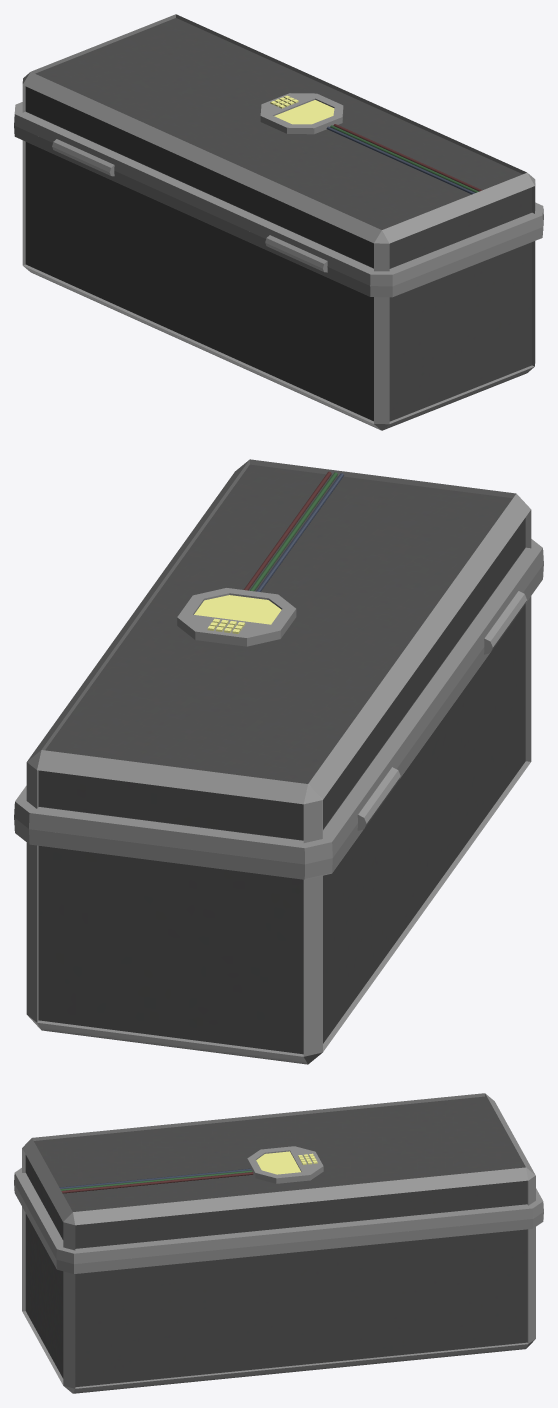
The model's file is Locked_Crate_Top.fbx.
3 views of the same model, one above another, from view 1: azimuth 30°, elevation 25°; view 2: azimuth 150°, elevation 25°; view 3: azimuth 270°, elevation 25° (orthographic). The views are drawn at different scales.
Visible parts, largest first — view 1: Locked_Crate_Top; view 2: Locked_Crate_Top; view 3: Locked_Crate_Top.
Boxes of the visible parts, bbox=[...] form: Locked_Crate_Top: bbox=[14, 14, 543, 430]; Locked_Crate_Top: bbox=[14, 459, 543, 1064]; Locked_Crate_Top: bbox=[14, 1093, 543, 1393].
Bounding box in the file's own units: 453 × 292 × 757.
